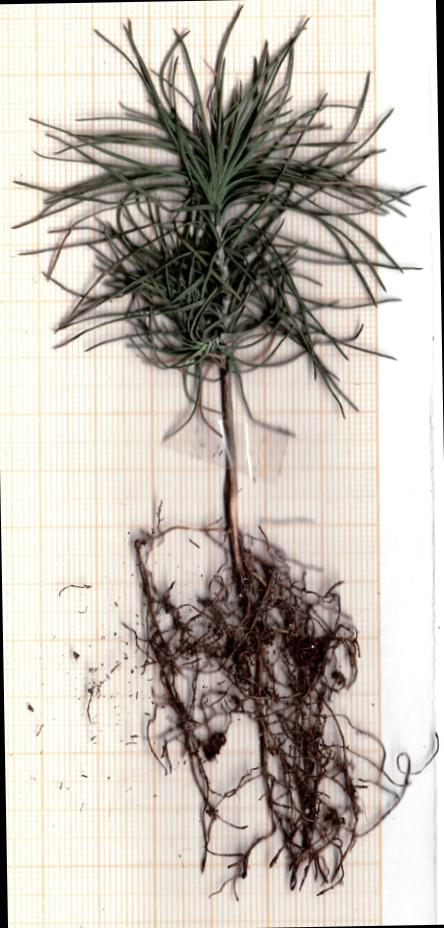flower: (4, 0, 419, 441)
root: (126, 501, 419, 910)
stem: (212, 377, 247, 516)
